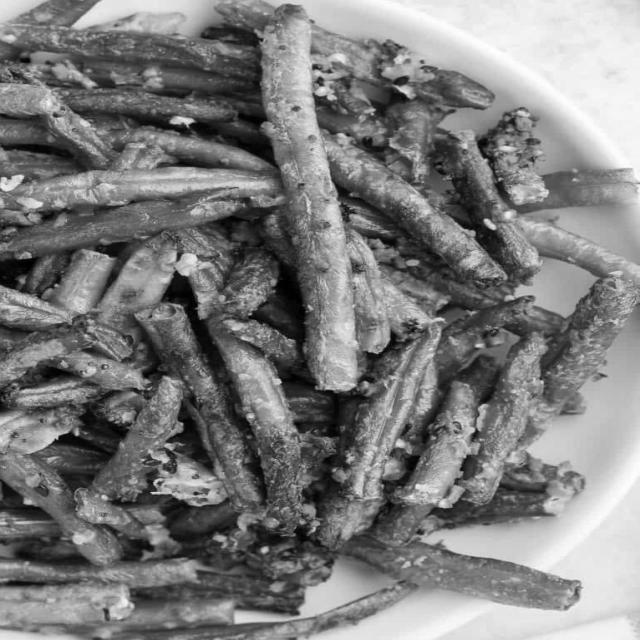Beans: (0, 2, 636, 639)
